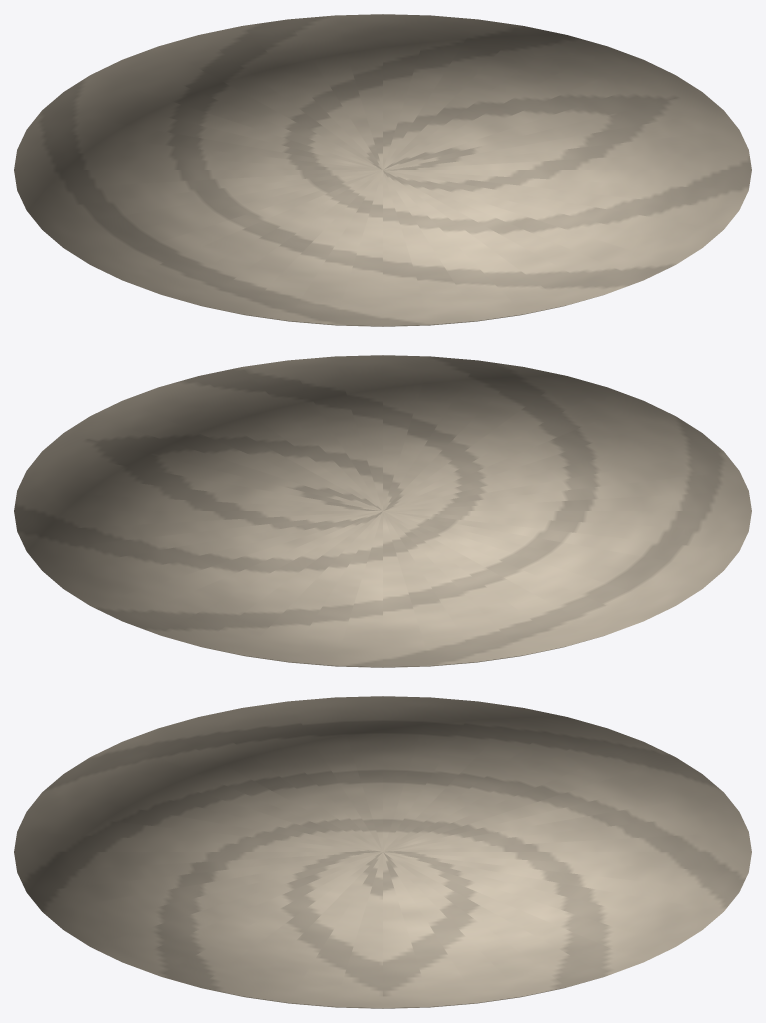
Rendered from rug_round.glb.
3 views of the same model, one above another, from view 1: azimuth 30°, elevation 25°; view 2: azimuth 150°, elevation 25°; view 3: azimuth 270°, elevation 25° (orthographic).
Parts seen in each view (by area): view 1: Rug; view 2: Rug; view 3: Rug.
Boxes of the visible parts, box(x1,y1,x2,y2) form: Rug: box(14, 14, 751, 326); Rug: box(14, 355, 751, 667); Rug: box(14, 696, 751, 1008).
Bounding box in the file's own units: 2.24 × 0.012 × 2.24.
1 material, 1 textured.
